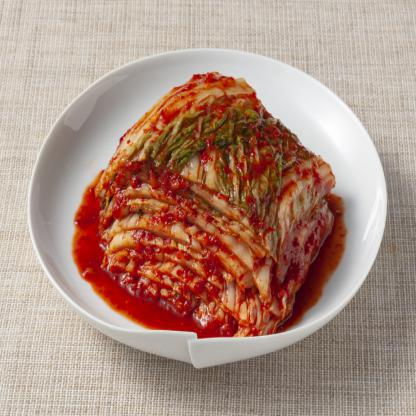kimchi: (89, 63, 346, 346)
